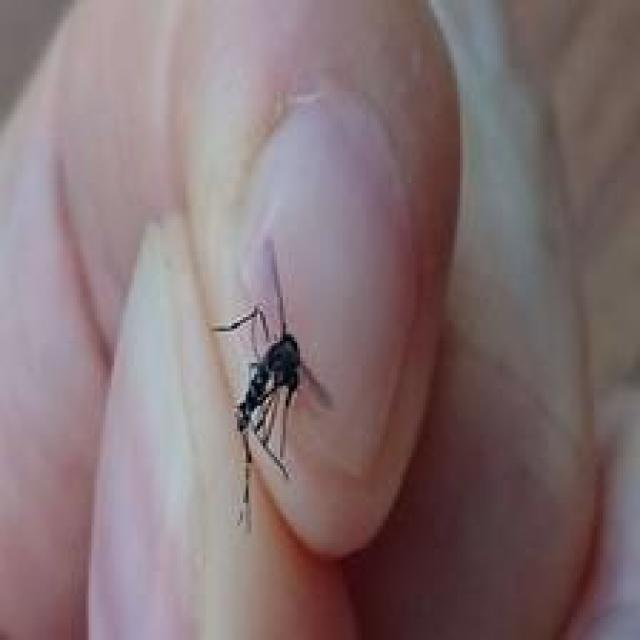Aedes albopictus: (209, 240, 334, 531)
